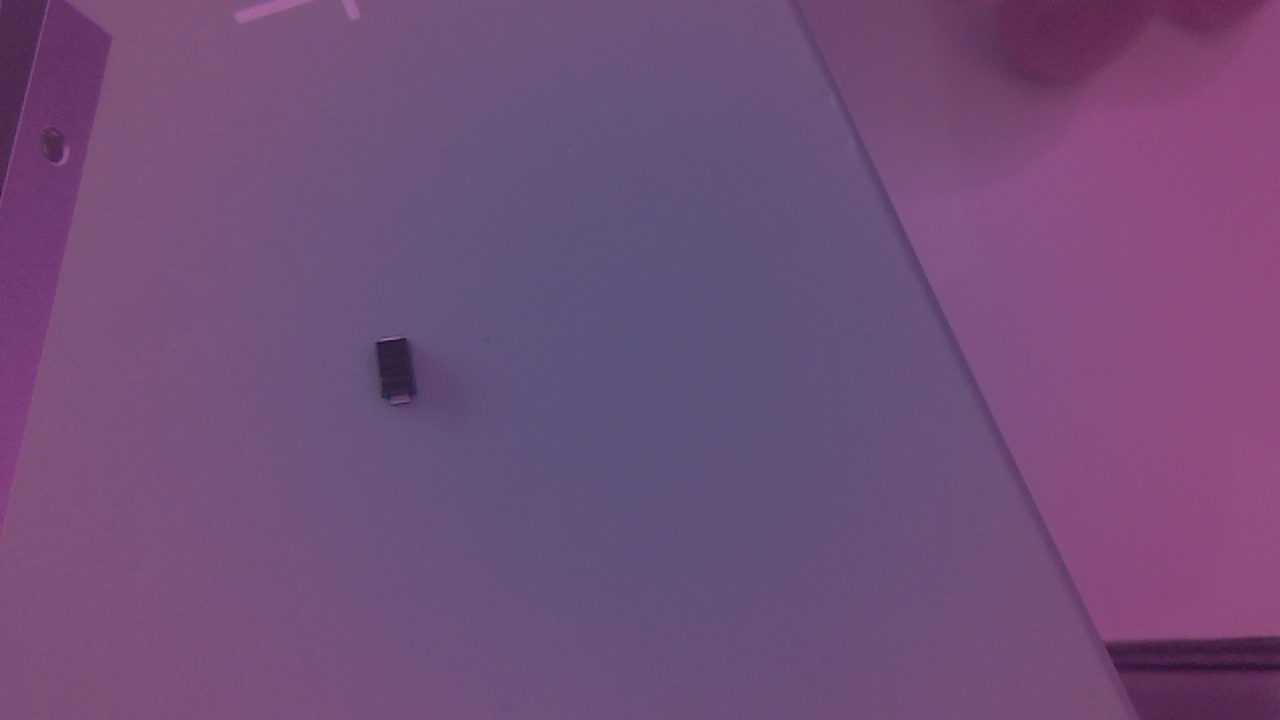Diode: (373, 337, 432, 416)
